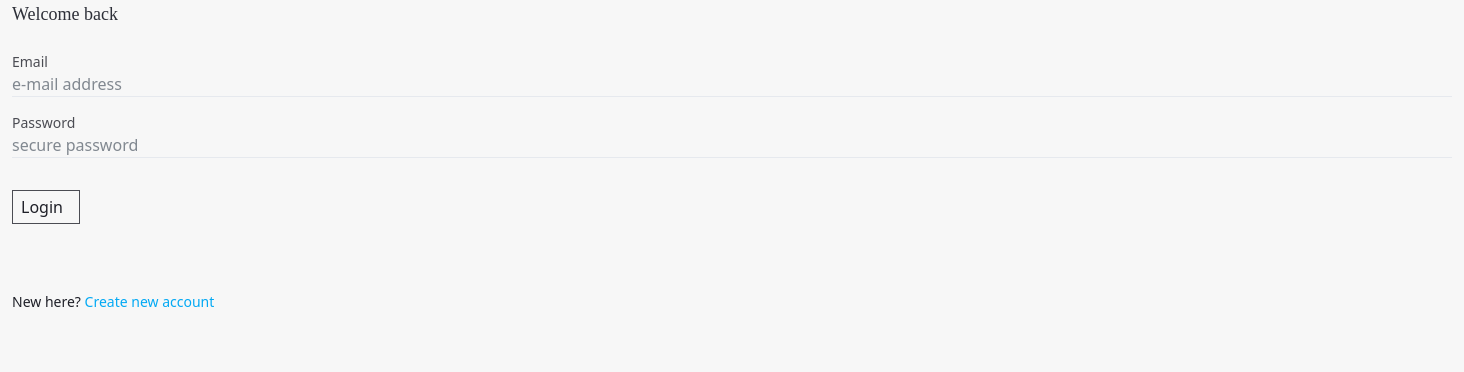
renders <LoginView /> › should throw error for invlaid email and password
Type "e@com" into the field with test id "login-email" at (732, 84), box [12,72,1452,97]
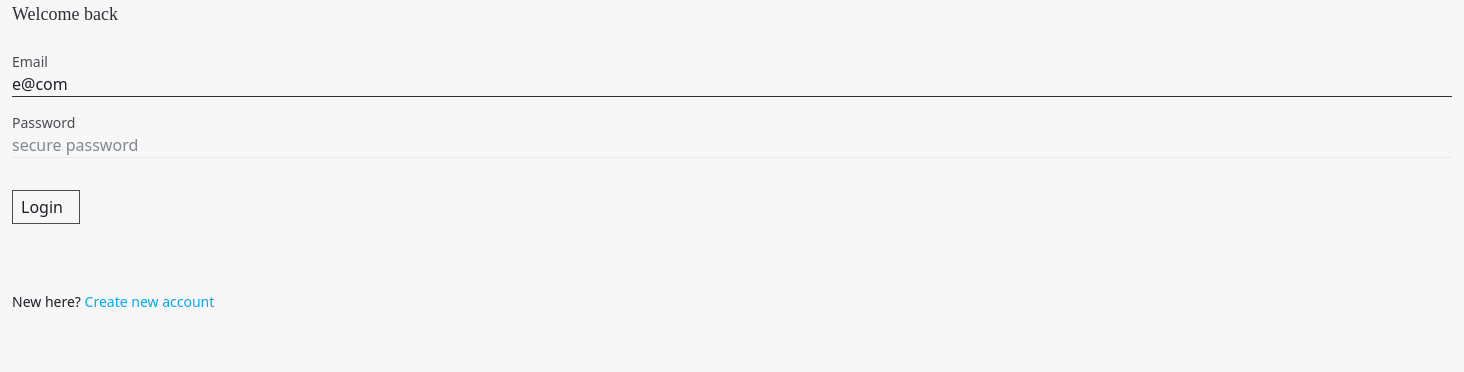
Type "1235" into the password field with test id "login-password" at (732, 146), box [12,133,1452,158]
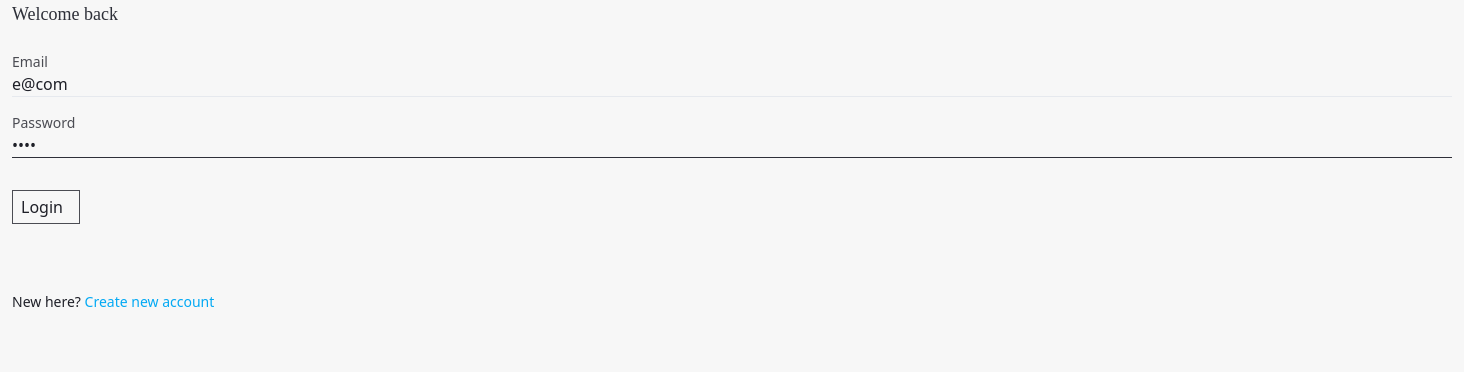
Click the button with test id "submit-login" at (46, 207), box [12,190,80,224]
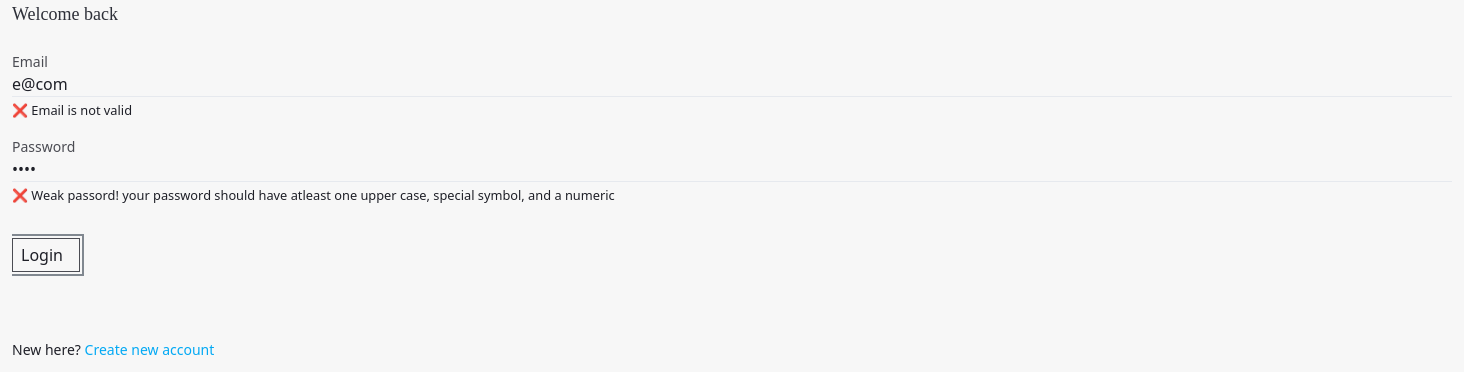
Expected: the text "❌ Email is not valid" is shown, [12,101,132,119]
Expected: the text with test id "password-error" is shown, [12,186,615,204]
